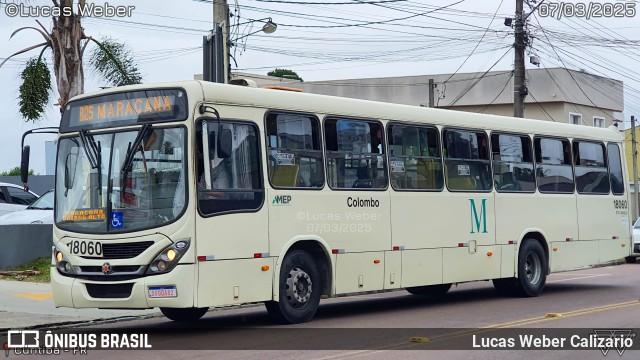MARACANA: (93, 93, 175, 122)
